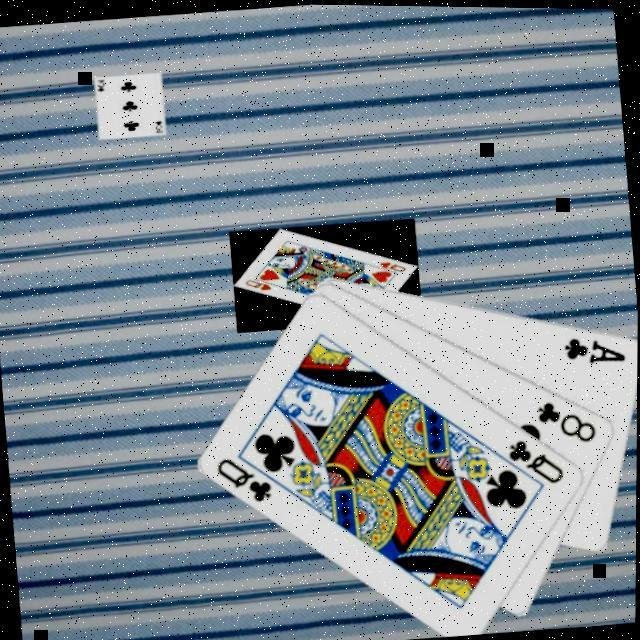8C: (533, 390, 600, 446)
AC: (558, 326, 628, 366)
QC: (503, 429, 568, 489), (212, 448, 276, 508)
